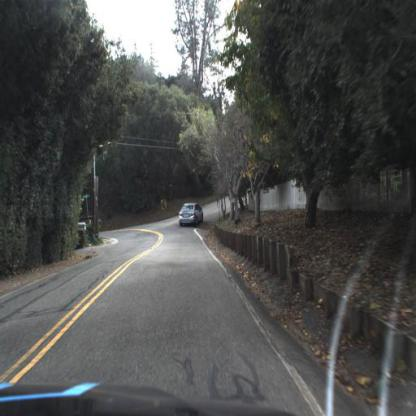car: (177, 197, 208, 233)
